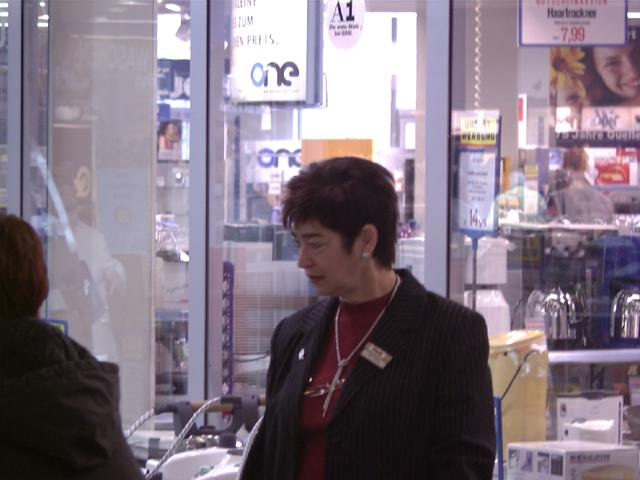Person: (240, 159, 498, 480)
